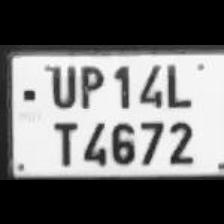1: (106, 59, 134, 109)
2: (163, 114, 195, 166)
4: (134, 58, 164, 108), (78, 116, 108, 166)
6: (106, 116, 138, 164)
7: (136, 114, 164, 166)
L: (162, 58, 190, 108)
P: (74, 60, 106, 110)
T: (47, 114, 79, 166)
U: (45, 60, 77, 108)
